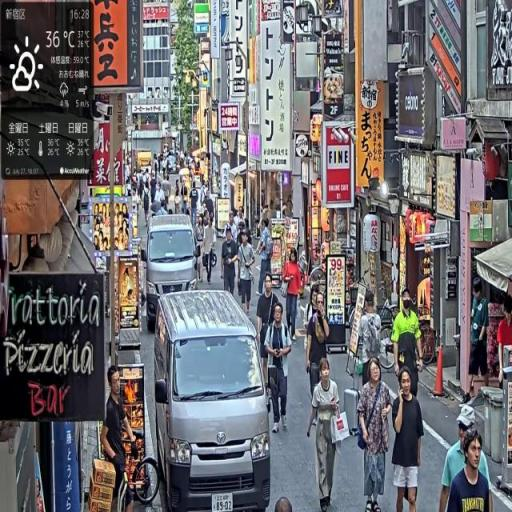person: (308, 357, 345, 512), (357, 358, 394, 512), (104, 363, 139, 512), (391, 367, 425, 512), (264, 298, 295, 435), (444, 431, 492, 512), (392, 289, 425, 398), (305, 295, 331, 407), (258, 273, 281, 393), (468, 280, 490, 390), (283, 249, 304, 344), (239, 231, 257, 316), (258, 213, 274, 295), (222, 225, 239, 299)
